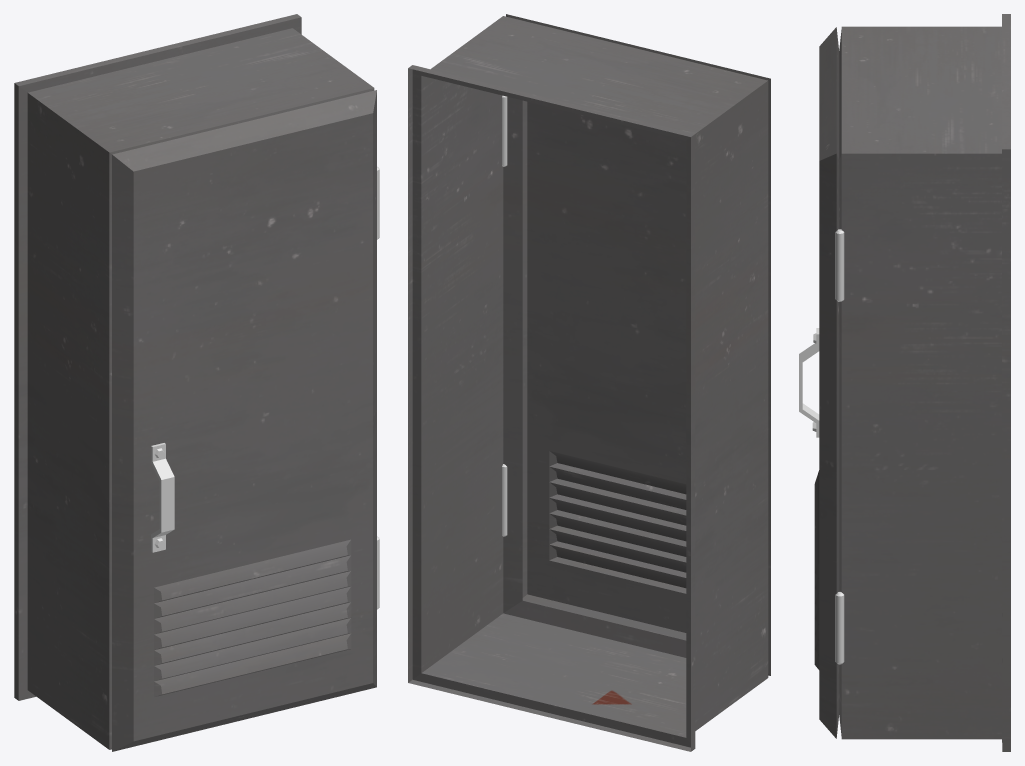
The model's file is KB3D_CBP_FuseBox_A.fbx.
The picture shows the model from 3 angles, left to right: view 1: azimuth 30°, elevation 25°; view 2: azimuth 150°, elevation 25°; view 3: azimuth 270°, elevation 25°; orthographic projection. The views are drawn at different scales.
Parts seen in each view (by area): view 1: KB3D_CBP_FuseBox_A_Main; view 2: KB3D_CBP_FuseBox_A_Main; view 3: KB3D_CBP_FuseBox_A_Main.
Boxes of the visible parts, x1=… form: KB3D_CBP_FuseBox_A_Main: x1=14, y1=14, x2=379, y2=751; KB3D_CBP_FuseBox_A_Main: x1=408, y1=14, x2=770, y2=751; KB3D_CBP_FuseBox_A_Main: x1=799, y1=14, x2=1010, y2=751.
Size of the model in its own units: 63.39 by 132 by 41.93.
